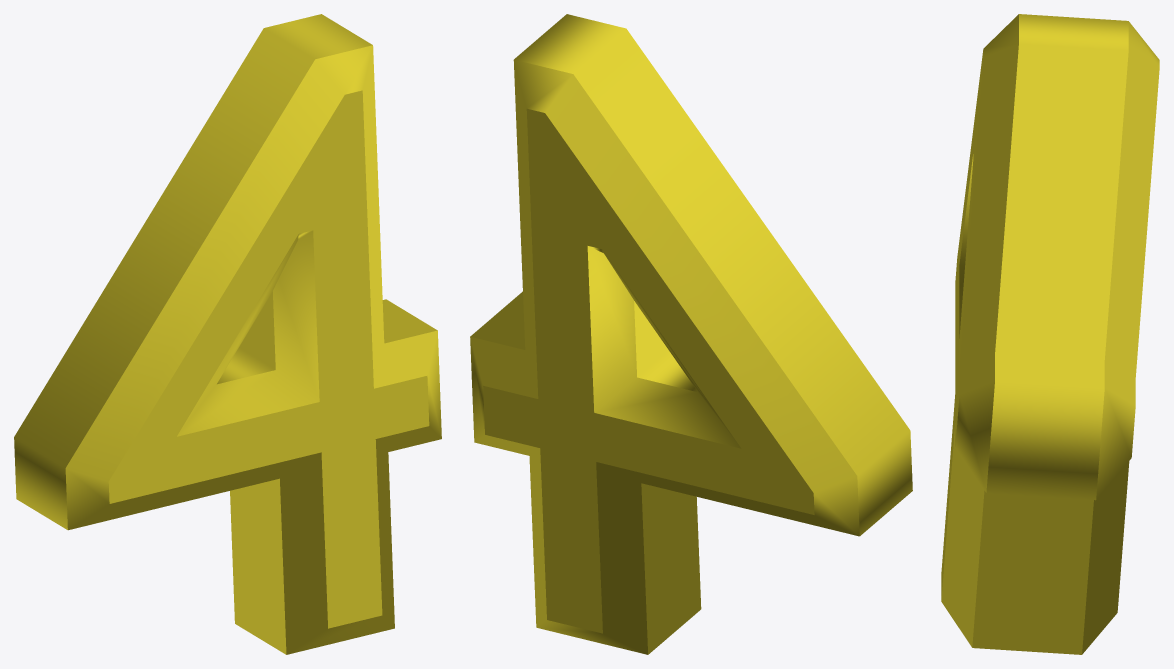
Rendered from QUAT.fbx.
The picture shows the model from 3 angles, left to right: view 1: azimuth 30°, elevation 25°; view 2: azimuth 150°, elevation 25°; view 3: azimuth 270°, elevation 25°; orthographic projection. The views are drawn at different scales.
Visible parts, largest first — view 1: Text; view 2: Text; view 3: Text.
Part boxes in pixels (x1,y1,x2,y2): Text: (14,14,441,654); Text: (470,14,912,654); Text: (941,14,1159,654).
Bounding box in the file's own units: 51 × 74.77 × 24.21.
